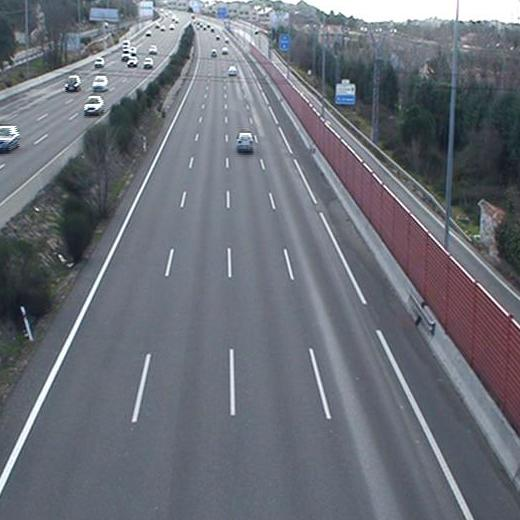car: (236, 131, 255, 151), (228, 63, 238, 77), (210, 48, 219, 60)
